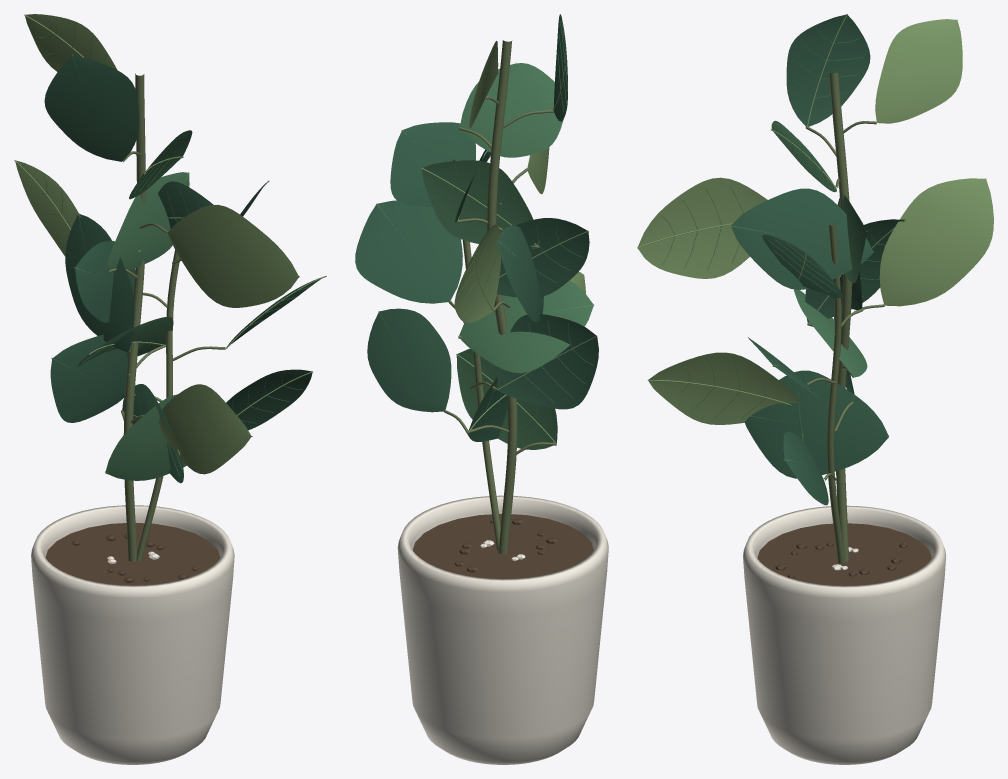
File: plant.glb
The picture shows the model from 3 angles, left to right: view 1: azimuth 30°, elevation 25°; view 2: azimuth 150°, elevation 25°; view 3: azimuth 270°, elevation 25°; orthographic projection. The views are drawn at different scales.
Parts seen in each view (by area): view 1: ceramic-planter, leaf-surface-11, recessed-soil, leaf-surface-14, leaf-surface-3, leaf-surface-4, leaf-surface-6, leaf-surface-9, leaf-surface-1, main-woody-stem, leaf-surface-15, leaf-surface-0 (+9 smaller); view 2: ceramic-planter, leaf-surface-8, recessed-soil, leaf-surface-0, leaf-surface-13, leaf-surface-4, leaf-surface-5, leaf-surface-9, leaf-surface-16, leaf-surface-12, main-woody-stem, leaf-surface-1 (+8 smaller); view 3: ceramic-planter, leaf-surface-7, leaf-surface-11, leaf-surface-2, recessed-soil, leaf-surface-10, leaf-surface-15, leaf-surface-3, leaf-surface-14, main-woody-stem, secondary-woody-stem, leaf-surface-6 (+6 smaller).
Part boxes in pixels (box(x1,y1,x2,y2)): ceramic-planter: box(31, 505, 234, 764); leaf-surface-11: box(168, 204, 298, 307); recessed-soil: box(45, 522, 220, 585); leaf-surface-14: box(44, 55, 139, 161); leaf-surface-3: box(159, 384, 251, 474); leaf-surface-4: box(50, 334, 127, 422); leaf-surface-6: box(65, 214, 134, 352); leaf-surface-9: box(107, 172, 189, 272); leaf-surface-1: box(105, 394, 186, 480); main-woody-stem: box(123, 73, 145, 561); leaf-surface-15: box(25, 14, 117, 71); leaf-surface-0: box(226, 369, 312, 430); ceramic-planter: box(397, 495, 608, 764); leaf-surface-8: box(355, 200, 462, 303); recessed-soil: box(412, 514, 593, 578); leaf-surface-0: box(367, 308, 451, 412); leaf-surface-13: box(460, 63, 563, 157); leaf-surface-4: box(497, 314, 598, 409); leaf-surface-5: box(459, 280, 593, 373); leaf-surface-9: box(422, 160, 539, 249); leaf-surface-16: box(390, 122, 475, 206); leaf-surface-12: box(497, 218, 589, 297); main-woody-stem: box(487, 40, 517, 554); leaf-surface-1: box(456, 348, 557, 449); ceramic-planter: box(743, 505, 945, 764); leaf-surface-7: box(879, 178, 993, 306); leaf-surface-11: box(637, 177, 767, 278); leaf-surface-2: box(744, 370, 888, 478); recessed-soil: box(757, 523, 931, 585); leaf-surface-10: box(731, 188, 873, 289); leaf-surface-15: box(875, 19, 962, 123); leaf-surface-3: box(648, 352, 801, 424); leaf-surface-14: box(786, 14, 870, 126); main-woody-stem: box(829, 72, 852, 561); secondary-woody-stem: box(827, 224, 844, 563); leaf-surface-6: box(805, 219, 904, 322).
Size of the model in its own units: 0.9114 by 2.46 by 1.14.
